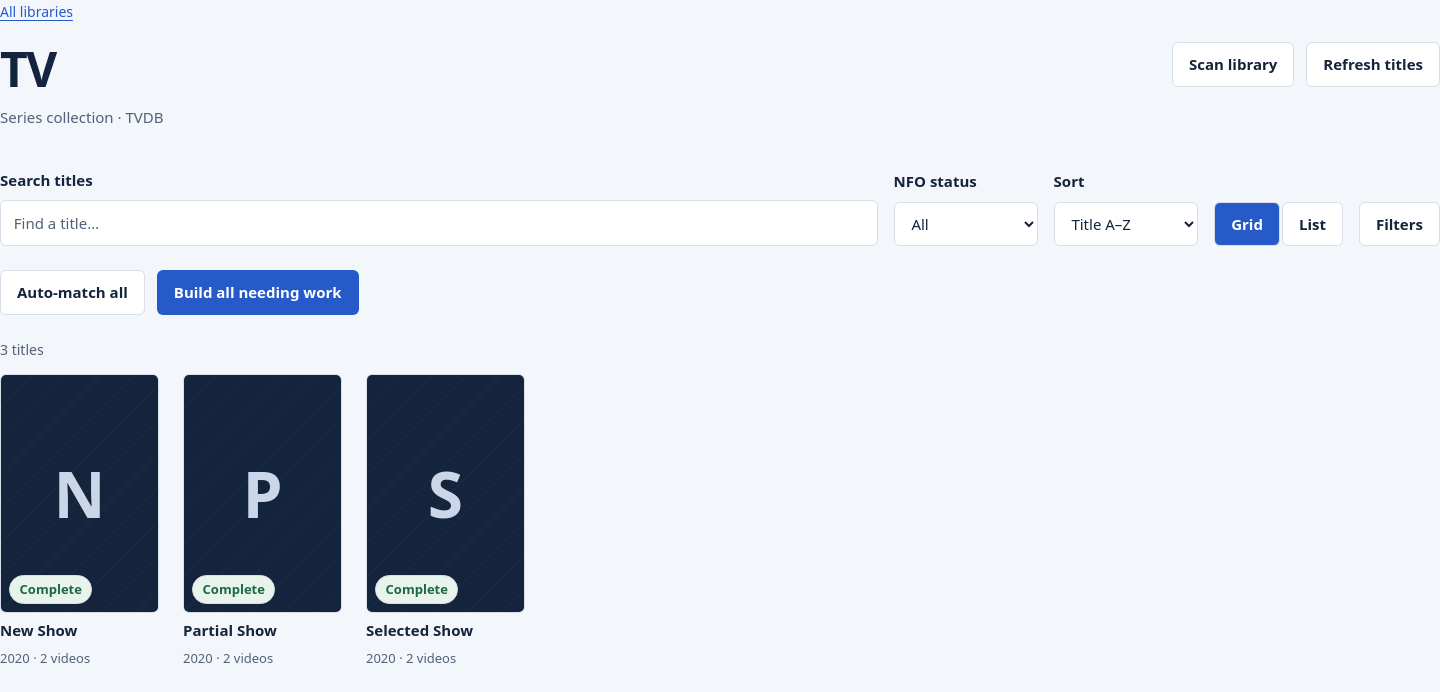
Scenario: optional season filter separates saved selections, preserves partial progress and stays inside the panel
The width and height of the screenshot is (1440, 692).
Expected: the link "S Complete Selected Show 2020 · 2 videos" is shown, [366,374,525,668]
Expected: the field labelled "Season posters" is not shown
Click the button "Filters".
click(1400, 224)  # box [1359,202,1439,246]
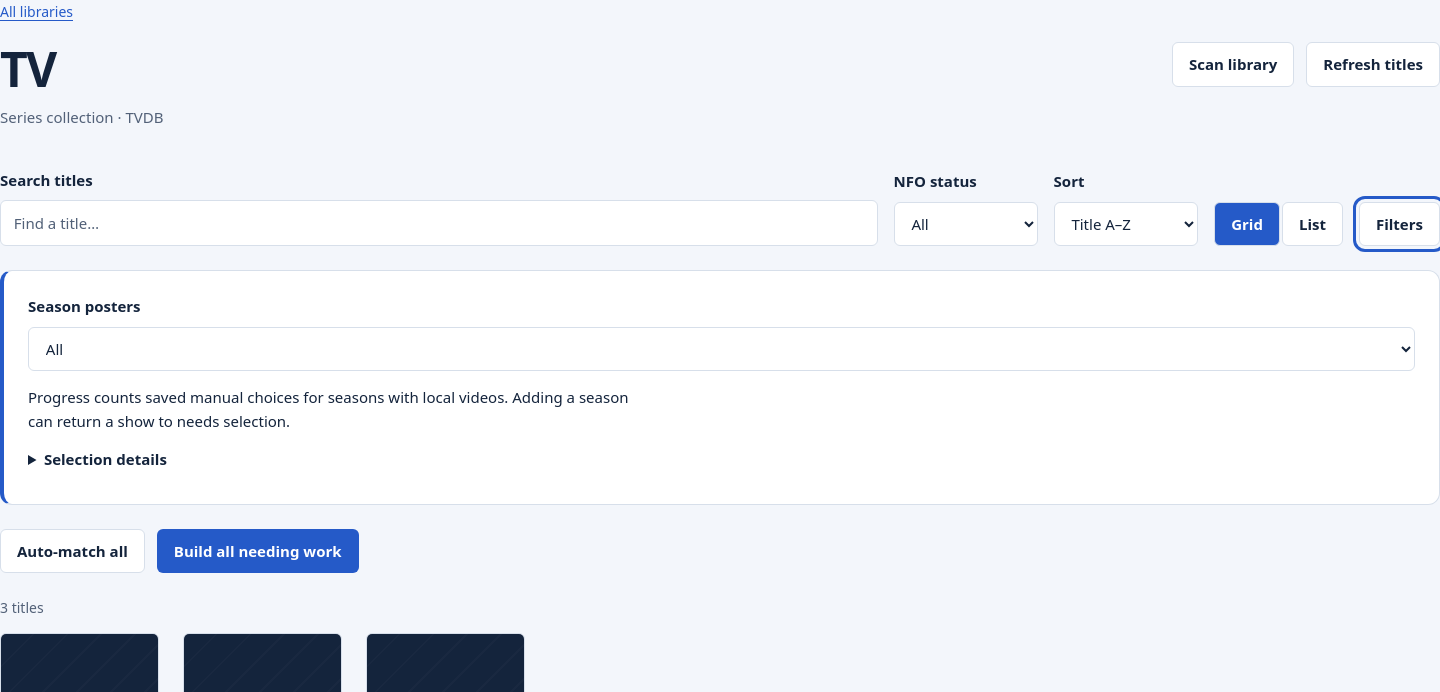
Click the heading "Selection details".
click(105, 459)  # box [44,449,167,469]
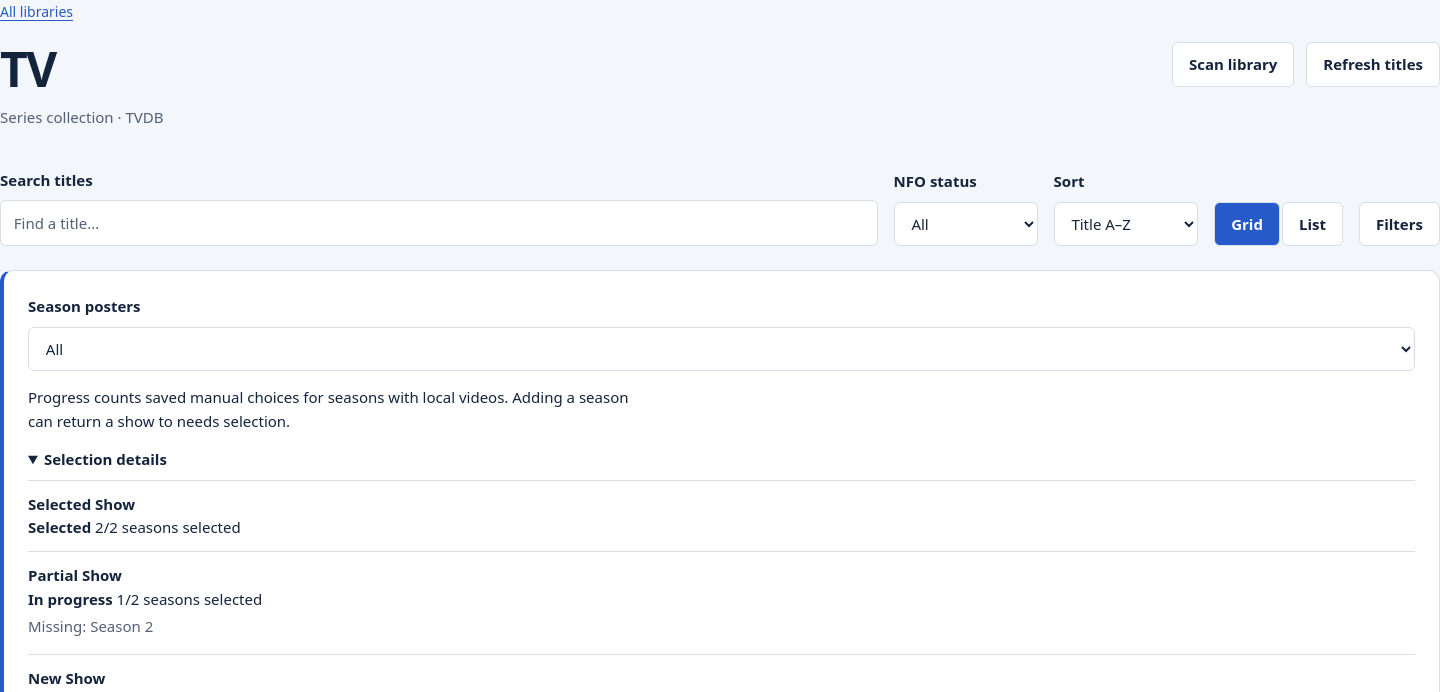
Expected: the text "In progress" is shown, [28,589,113,609]
Expected: the text "1/2 seasons selected" is shown, [113,589,262,609]
Expected: the text "Missing: Season 2" is shown, [28,616,153,636]
Select "Selected" in the dropdown labelled "Season posters" at (722, 349), box [28,327,1415,372]
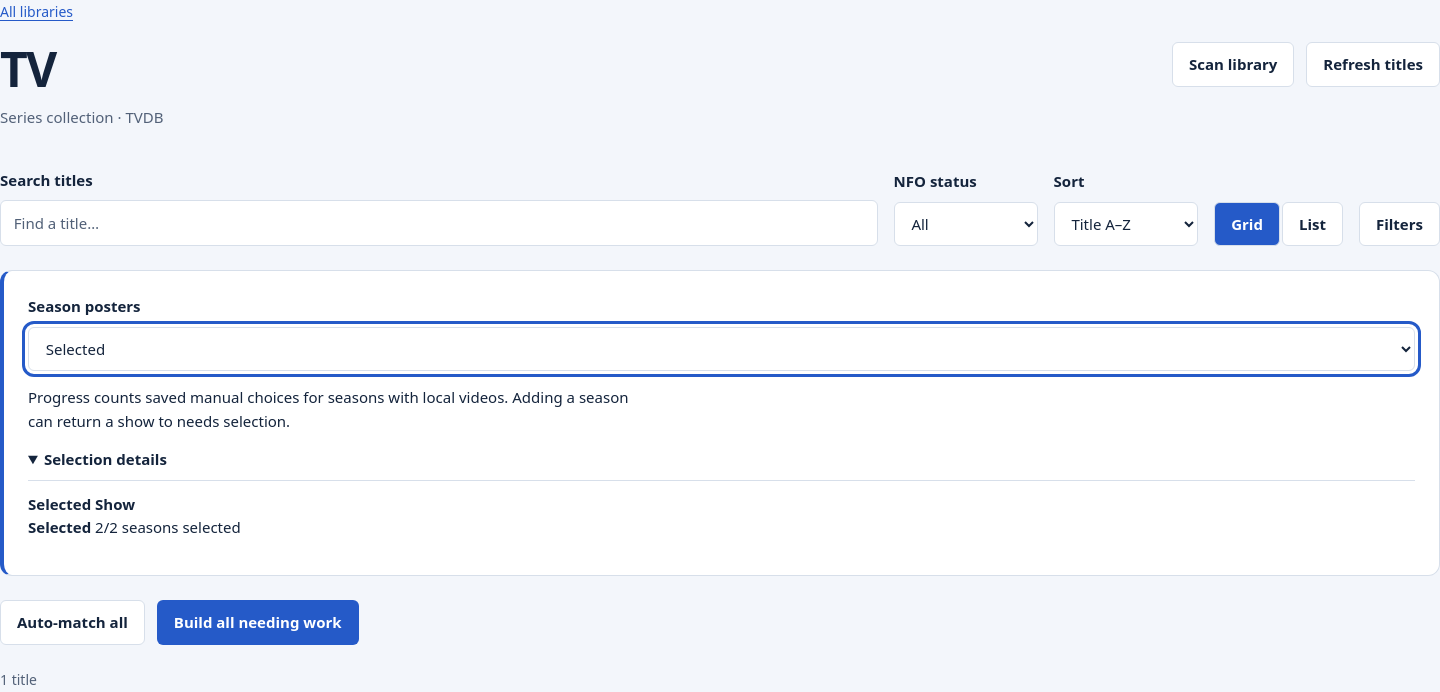
Expected: the text "Partial Show" is gone
Select "Needs selection" in the dropdown labelled "Season posters" at (722, 349), box [28,327,1415,372]
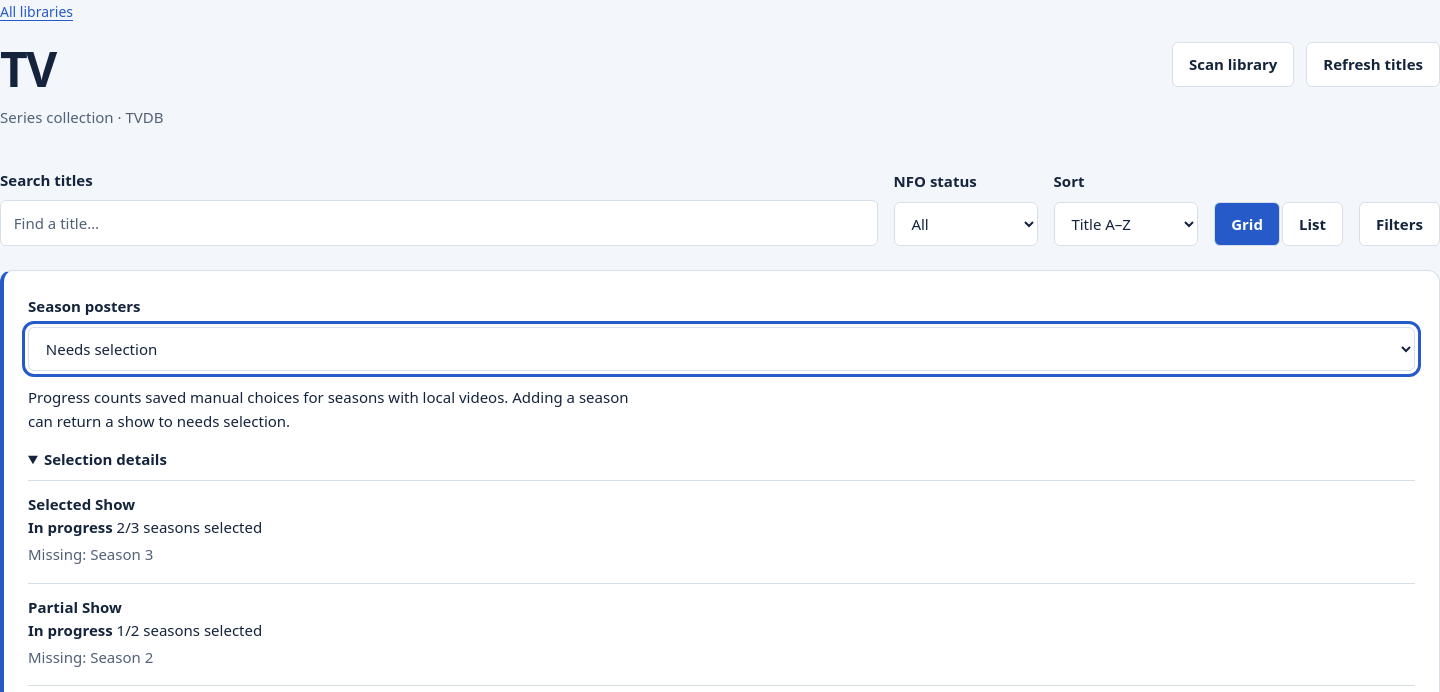
Expected: the 2nd text "In progress" is shown, [28,620,113,640]
Expected: the text "Missing: Season 3" is shown, [28,544,153,564]
Click the button "Filters".
click(1400, 224)  # box [1359,202,1439,246]
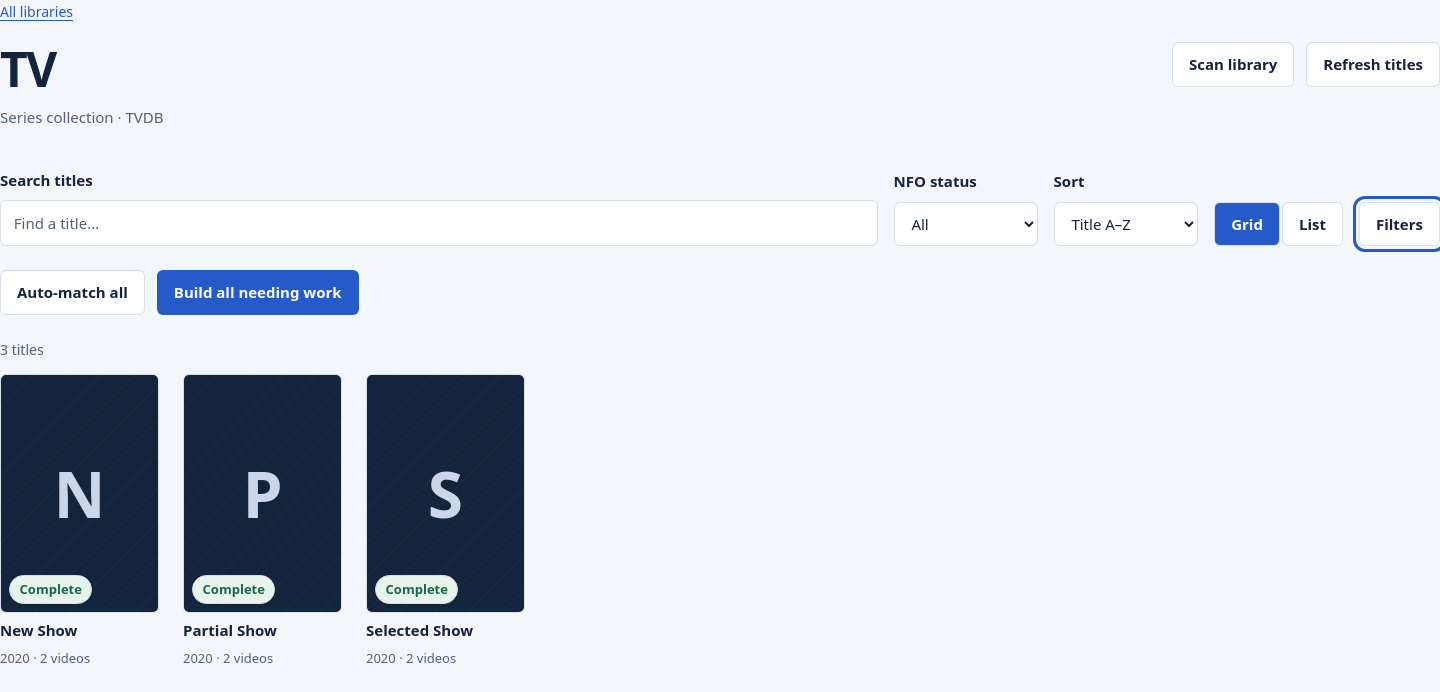
Expected: the text labelled "Season posters" is gone
Expected: the text "In progress" is gone
